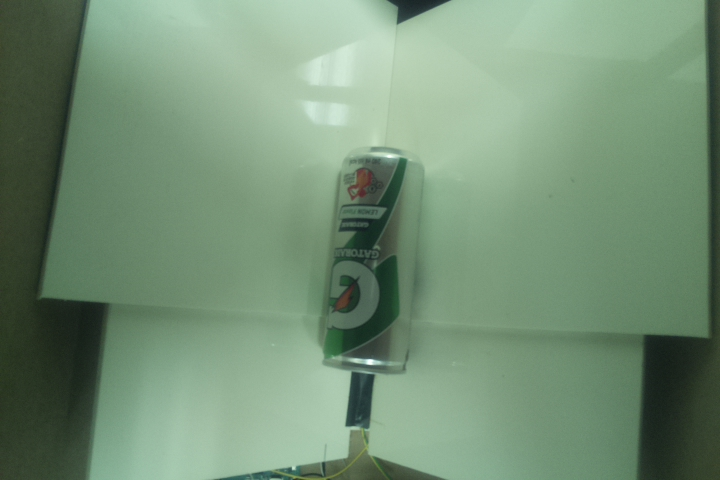can: (316, 143, 427, 375)
